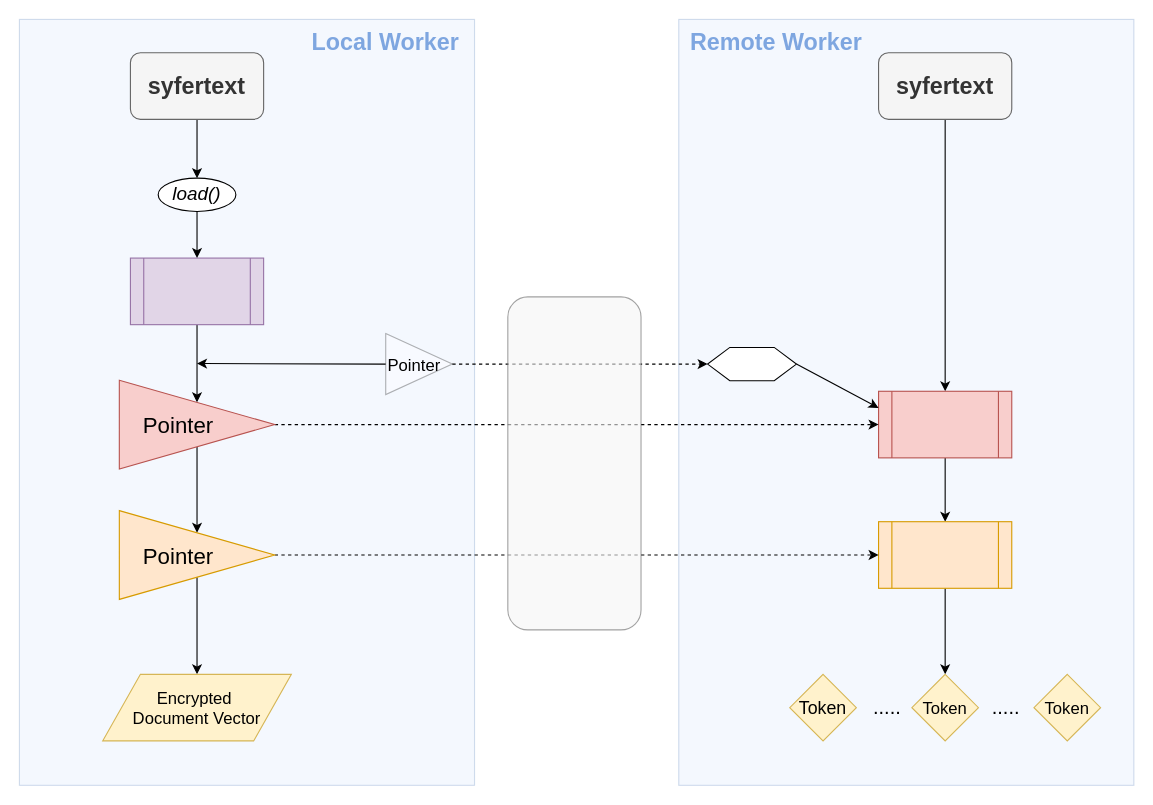
Image size: 1153x805. Some labels were removed from this diagram. The centre of each missing label's shape, as x and y in pixels:
"Doc" belongs at pixel 944 554.
"Language" belongs at pixel 196 291.
"PySyft" belongs at pixel 574 463.
"String" belongs at pixel 751 363.
"Tokenizer" belongs at pixel 944 424.
